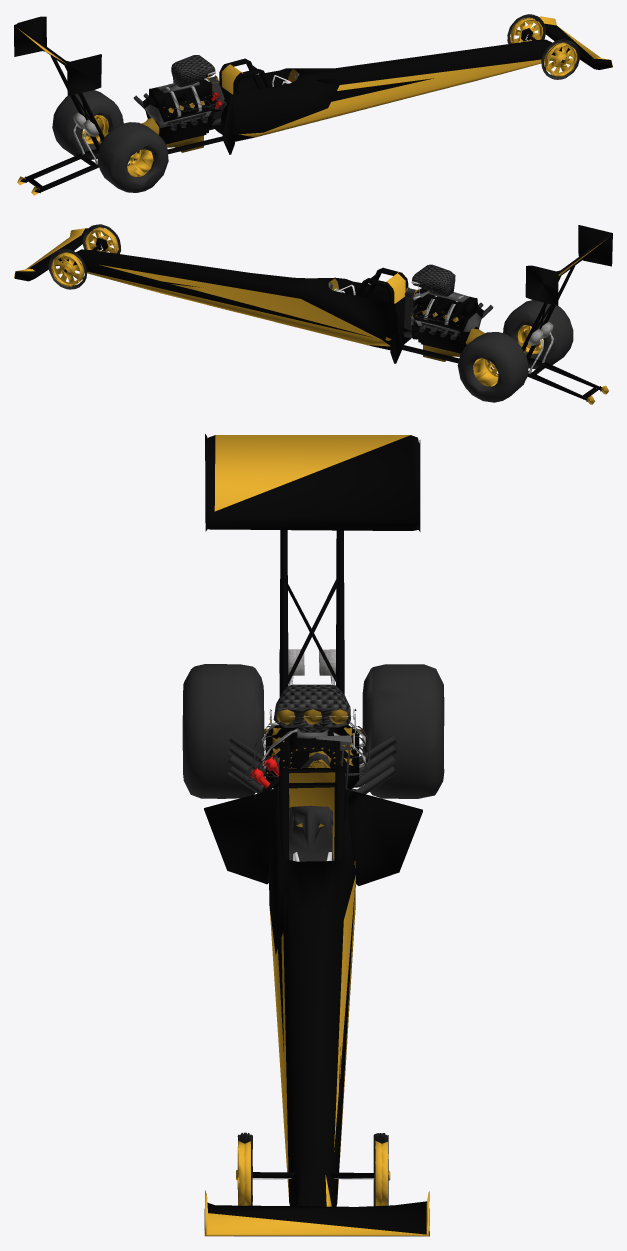
Rendered from veh-dragster.glb.
3 renders of one model, top to bottom at view 1: azimuth 30°, elevation 25°; view 2: azimuth 150°, elevation 25°; view 3: azimuth 270°, elevation 25°, orthographic. The views are drawn at different scales.
Visible parts, largest first — view 1: Object_157; view 2: Object_157; view 3: Object_157.
Boxes of the visible parts, left/top/right/bottom form: Object_157: left=14, top=14, right=612, bottom=195; Object_157: left=14, top=224, right=612, bottom=404; Object_157: left=182, top=434, right=444, bottom=1236.
Size of the model in its own units: 17.09 by 4.26 by 3.46.
86 materials, 4 textured.
